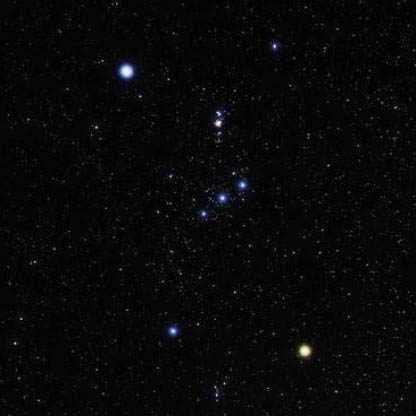Orion: (284, 339, 323, 369), (105, 57, 140, 88), (159, 320, 186, 345), (263, 37, 286, 61), (234, 172, 253, 198), (216, 185, 231, 211), (193, 205, 207, 226)
